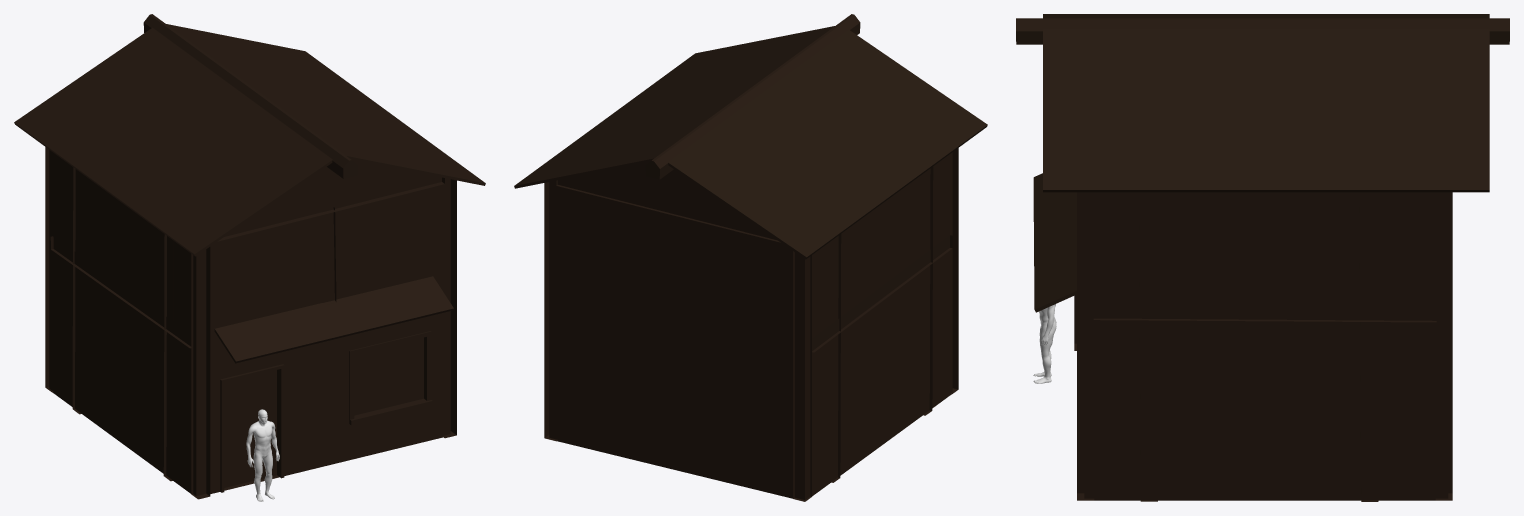
Rendered from BasicBuilding.fbx.
3 renders of one model, left to right at view 1: azimuth 30°, elevation 25°; view 2: azimuth 150°, elevation 25°; view 3: azimuth 270°, elevation 25°, orthographic. The views are drawn at different scales.
Parts seen in each view (by area): view 1: Cube, roof, Man; view 2: Cube, roof; view 3: Cube, roof, Man.
Part boxes in pixels (x1,y1,x2,y2): Cube: (45, 147, 456, 499); roof: (14, 14, 485, 363); Man: (246, 409, 279, 501); Cube: (544, 148, 958, 501); roof: (514, 14, 987, 259); Cube: (1074, 192, 1452, 501); roof: (1016, 14, 1509, 312); Man: (1033, 304, 1056, 383).
Bounding box in the file's own units: 620 × 665 × 735.
